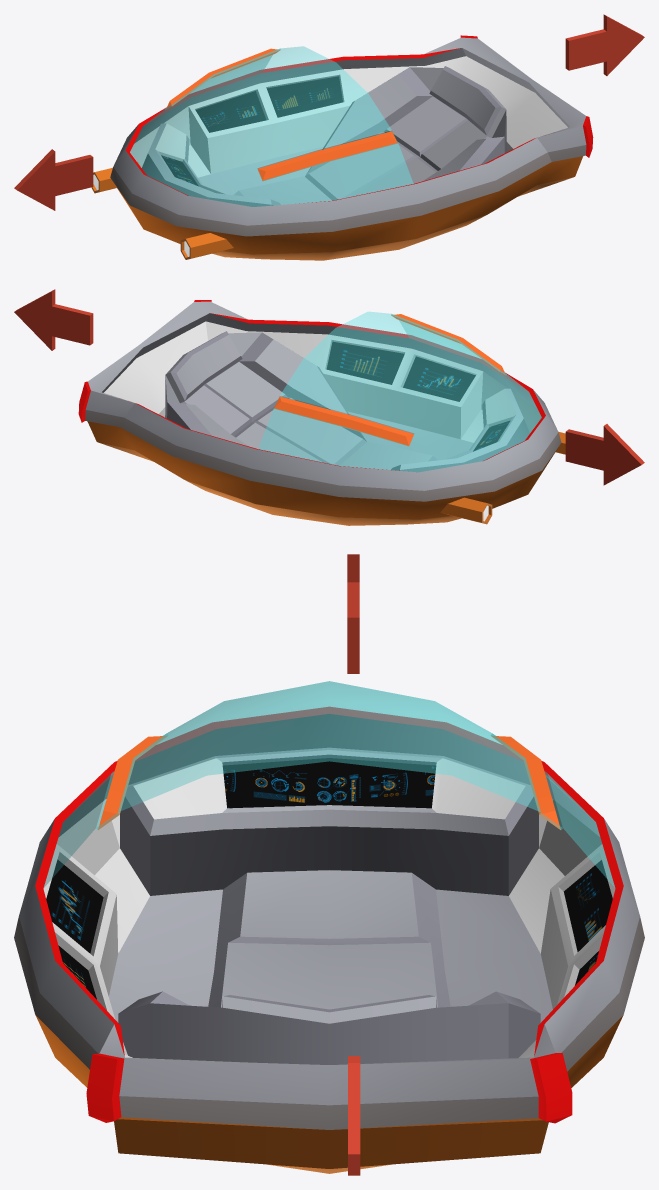
File: Horizontal_Spaceship_Orange.glb
The picture shows the model from 3 angles, top to bottom: view 1: azimuth 30°, elevation 25°; view 2: azimuth 150°, elevation 25°; view 3: azimuth 270°, elevation 25°; orthographic projection. The views are drawn at different scales.
Parts seen in each view (by area): view 1: SpaceShip_01, arrowUP, arrowDown; view 2: SpaceShip_01, arrowUP, arrowDown; view 3: SpaceShip_01, arrowDown, arrowUP.
Part boxes in pixels (x1,y1,x2,y2): SpaceShip_01: (91, 35, 593, 260); arrowUP: (565, 14, 644, 75); arrowDown: (14, 149, 93, 210); SpaceShip_01: (78, 300, 565, 525); arrowUP: (14, 289, 93, 350); arrowDown: (565, 424, 644, 485); SpaceShip_01: (14, 681, 644, 1173); arrowDown: (347, 554, 359, 673); arrowUP: (348, 1056, 360, 1175).
Bounding box in the file's own units: 7.62 × 1.87 × 3.51.
Materials: 5 (5 with a texture image).
